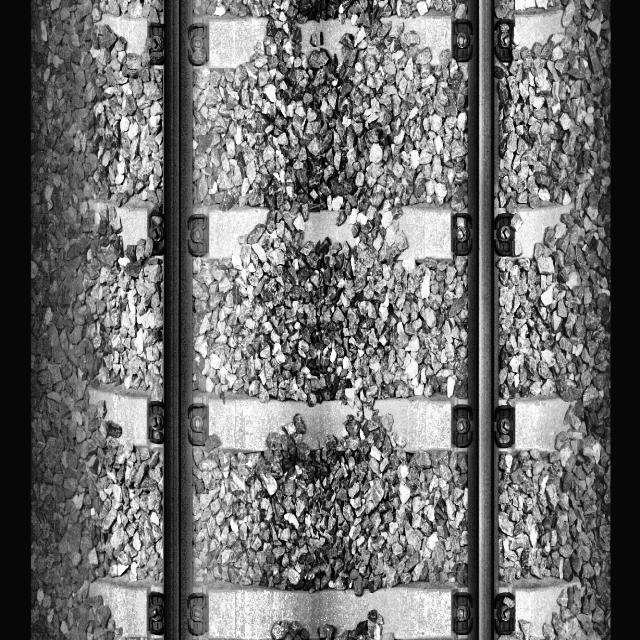Clips: (448, 584, 477, 636), (184, 207, 212, 260), (491, 204, 517, 260), (491, 586, 519, 638), (492, 396, 518, 451), (185, 586, 212, 638), (448, 206, 474, 258), (185, 400, 211, 450), (185, 19, 211, 69), (448, 400, 475, 448), (146, 13, 169, 68), (146, 589, 170, 640), (492, 15, 516, 65), (448, 15, 474, 61), (148, 394, 168, 447), (146, 205, 168, 253)
Sleepers: (76, 377, 589, 465), (78, 193, 586, 274), (92, 5, 578, 81), (85, 571, 584, 640)
